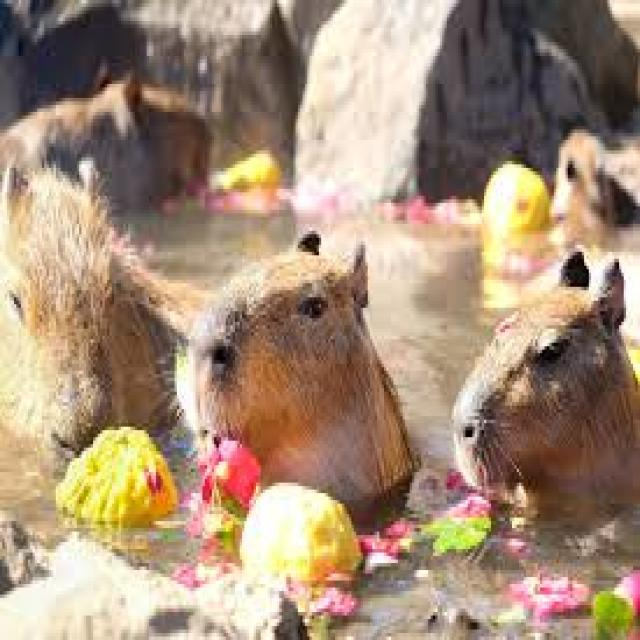capy: (190, 228, 418, 513), (0, 157, 175, 462), (451, 250, 640, 527)
